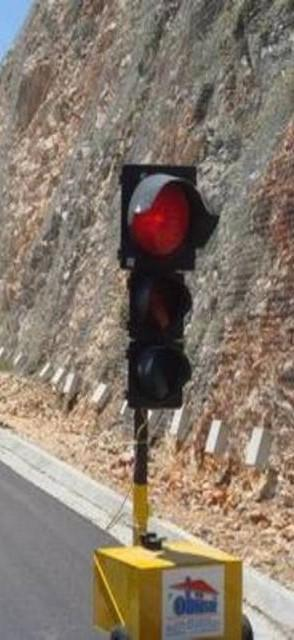red_light: (120, 164, 218, 410)
